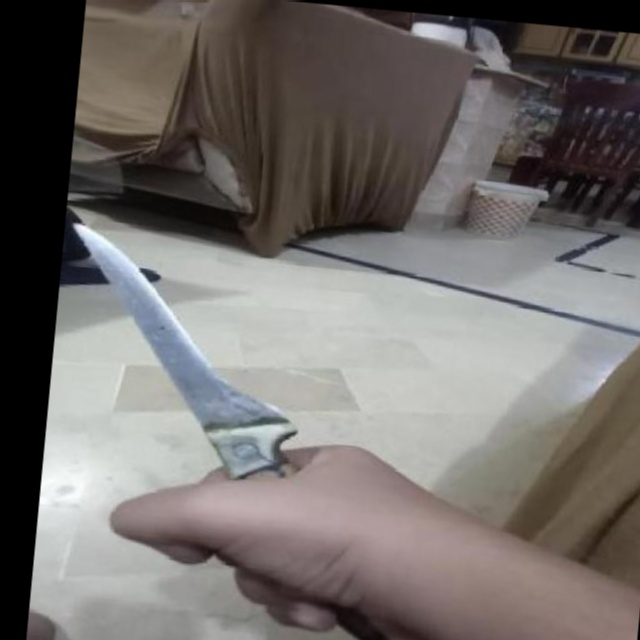Sharp-Object: (35, 225, 428, 640)
